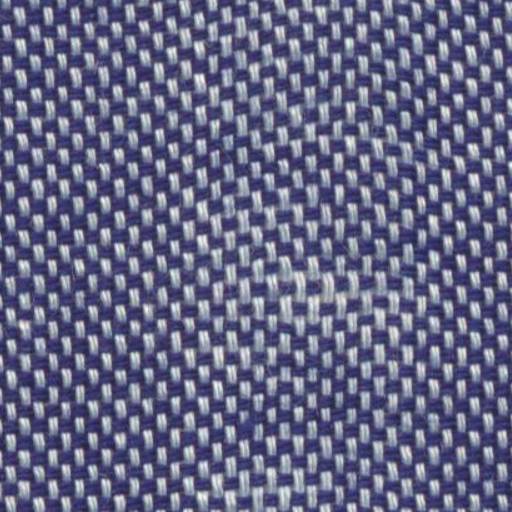TuoSha: (174, 18, 429, 498)
